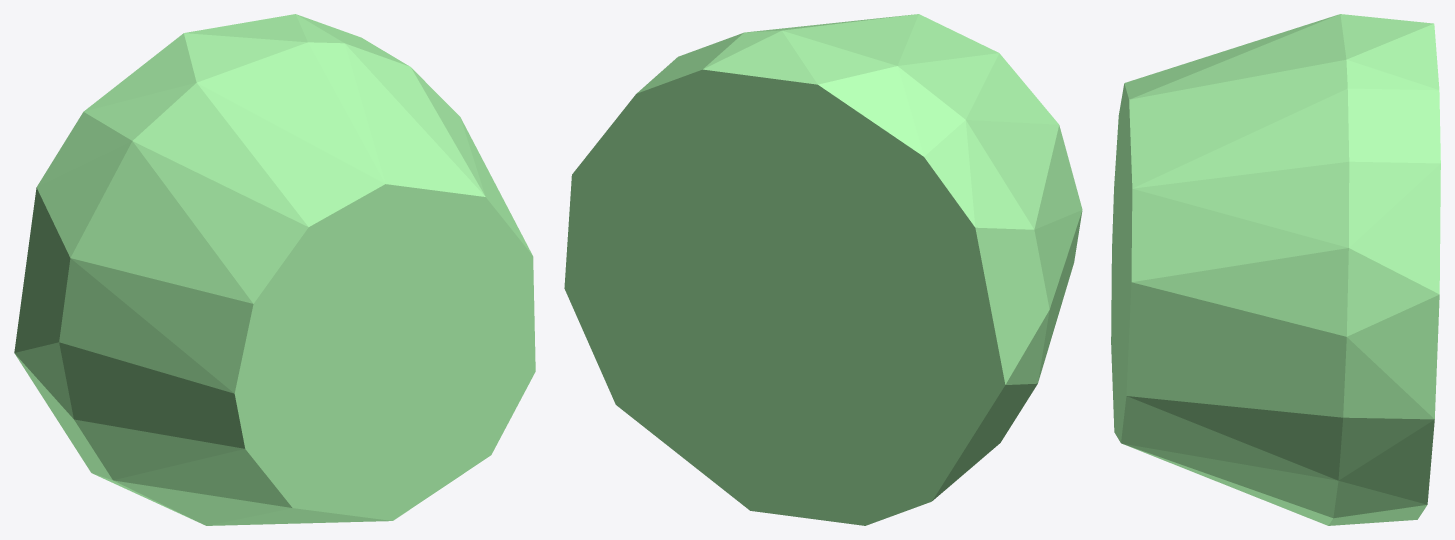
Rendered from palle_scrotali_buone_L4_respondable_ECM_coll_1.dae.
3 renders of one model, left to right at view 1: azimuth 30°, elevation 25°; view 2: azimuth 150°, elevation 25°; view 3: azimuth 270°, elevation 25°, orthographic.
Visible parts, largest first — view 1: Node_000002334E243BC0; view 2: Node_000002334E243BC0; view 3: Node_000002334E243BC0.
Part boxes in pixels (x1=…): Node_000002334E243BC0: x1=14, y1=14, x2=535, y2=525; Node_000002334E243BC0: x1=564, y1=14, x2=1082, y2=525; Node_000002334E243BC0: x1=1111, y1=14, x2=1440, y2=525.
Bounding box in the file's own units: 0.0694 × 0.0694 × 0.0449.
